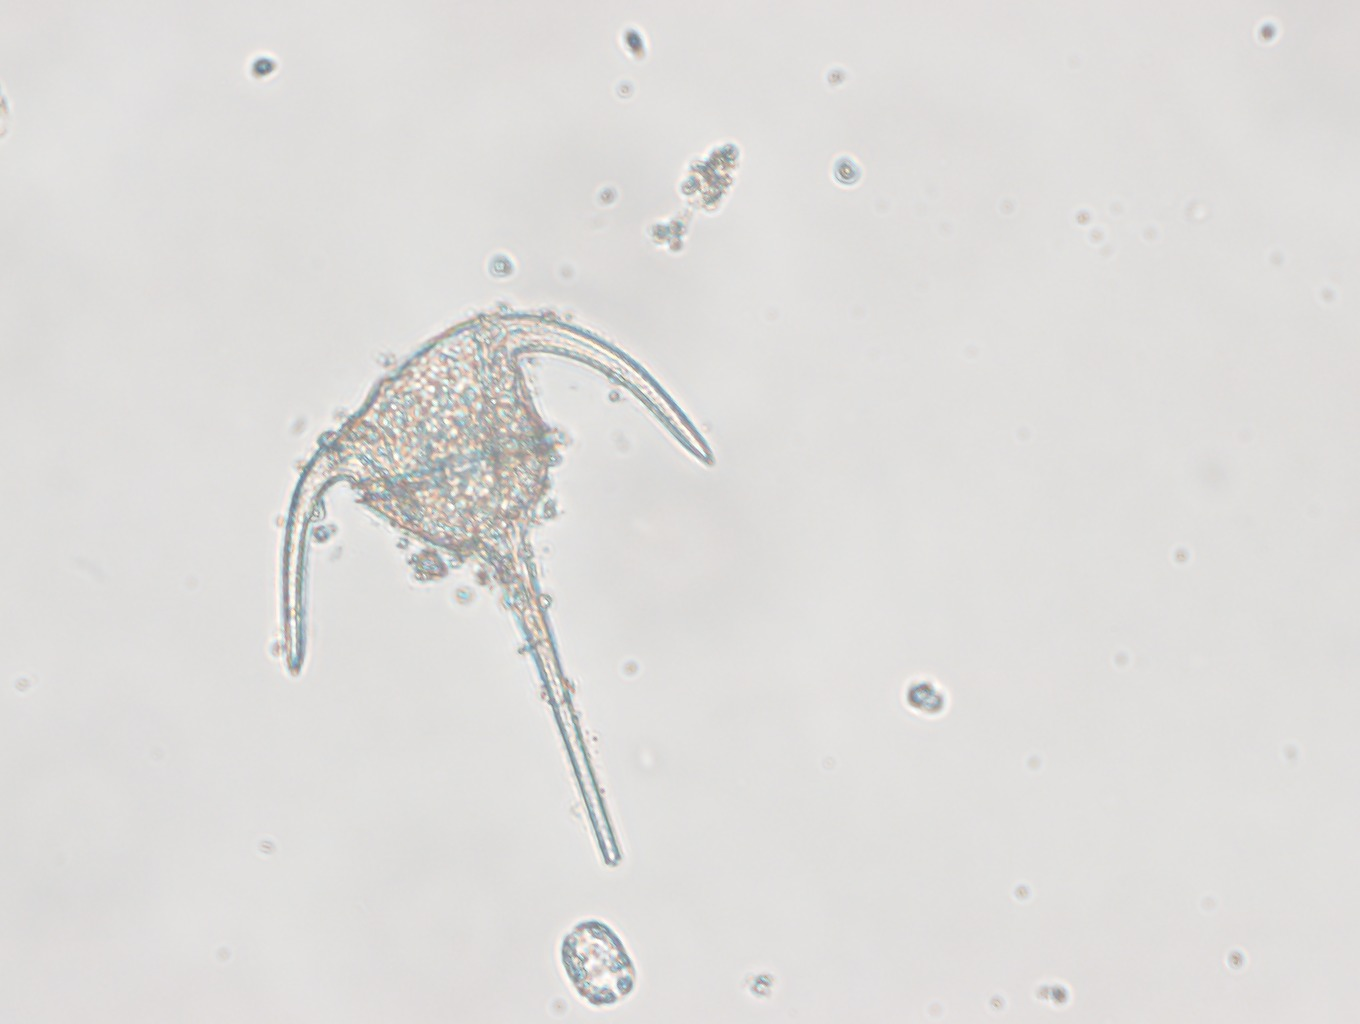ceratium tripos: (281, 311, 715, 867)
